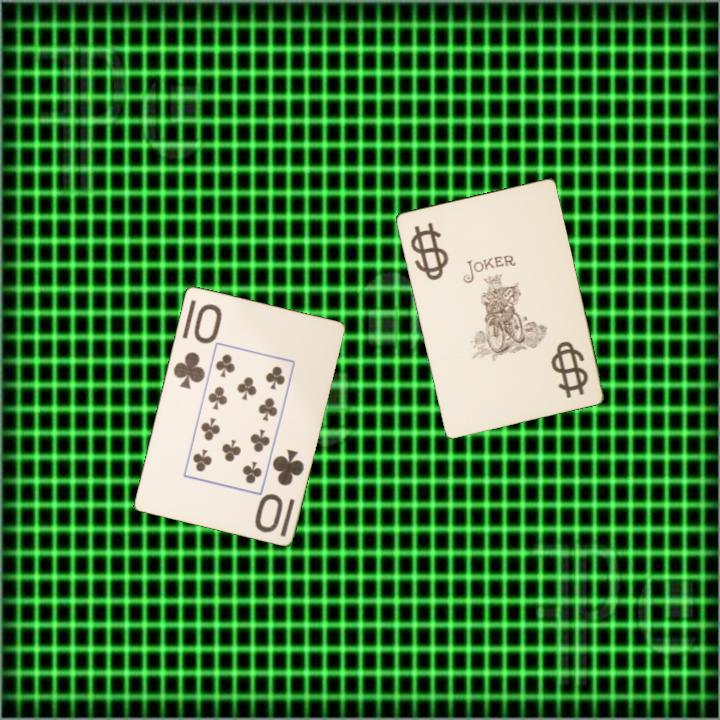10c: (169, 300, 223, 392), (253, 445, 307, 535)
JK: (551, 337, 591, 401), (410, 229, 442, 279)
